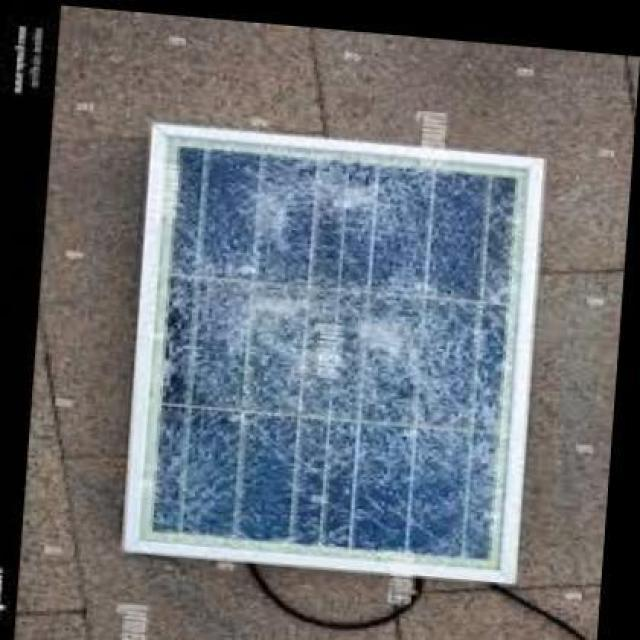cracked: (138, 126, 524, 584)
